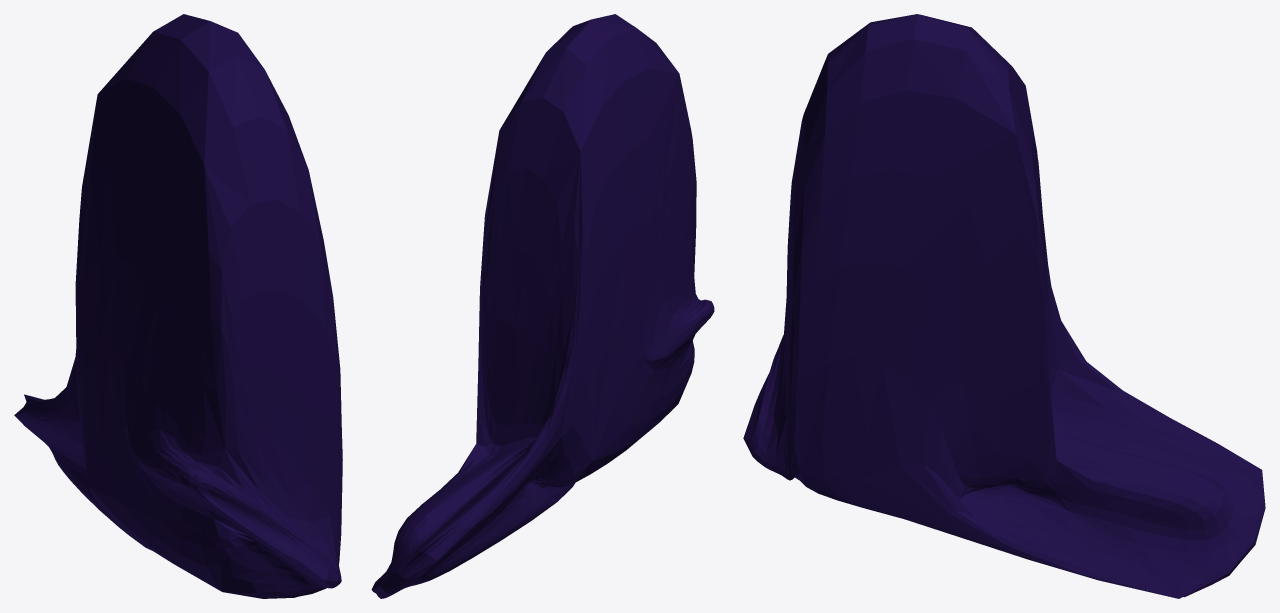
3 views of the same model, side by side, from view 1: azimuth 30°, elevation 25°; view 2: azimuth 150°, elevation 25°; view 3: azimuth 270°, elevation 25° (orthographic). The views are drawn at different scales.
Parts seen in each view (by area): view 1: 858_Cube.3468; view 2: 858_Cube.3468; view 3: 858_Cube.3468.
Part boxes in pixels (x1,y1,x2,y2): 858_Cube.3468: (14,14,342,598); 858_Cube.3468: (371,14,714,598); 858_Cube.3468: (743,14,1265,598).
Size of the model in its own units: 4.7 by 13.54 by 11.87.
